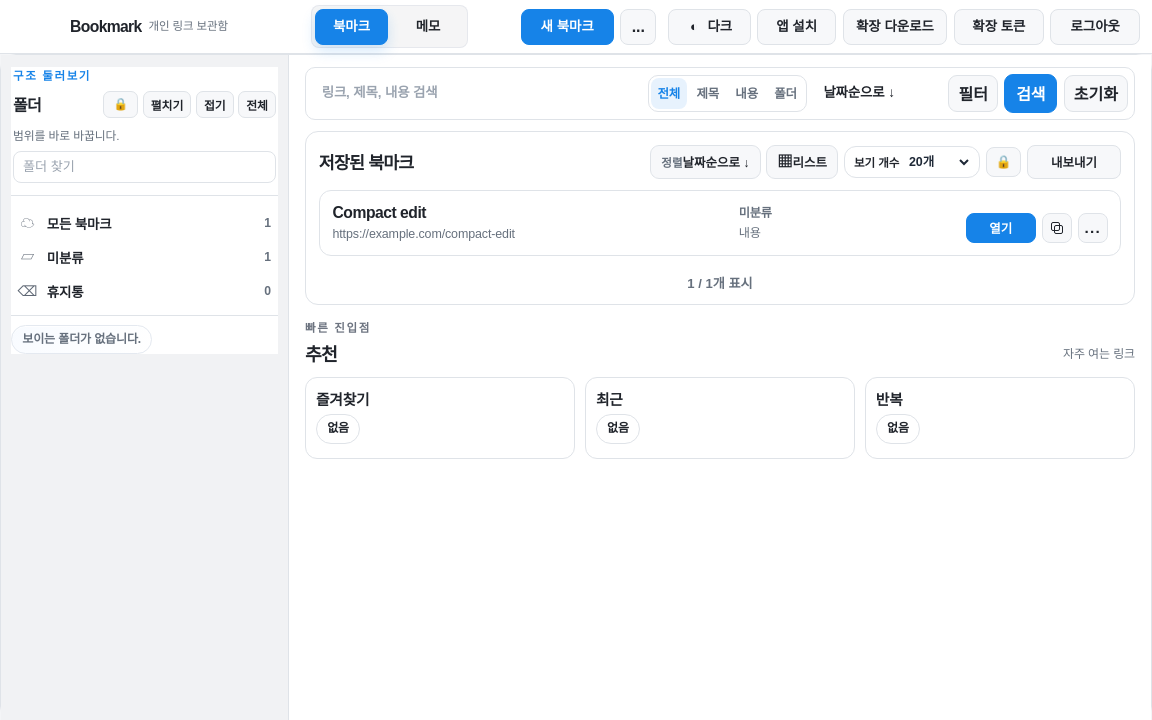
Test: bookmark dashboard › loads full bookmark content before editing a compact list bookmark
The width and height of the screenshot is (1152, 720).
What coordinates should you click on to do the following:
click the button "..." in the row of "Compact edit"
I would click on:
 (1092, 228)
Its box is [1077,213,1108,243].
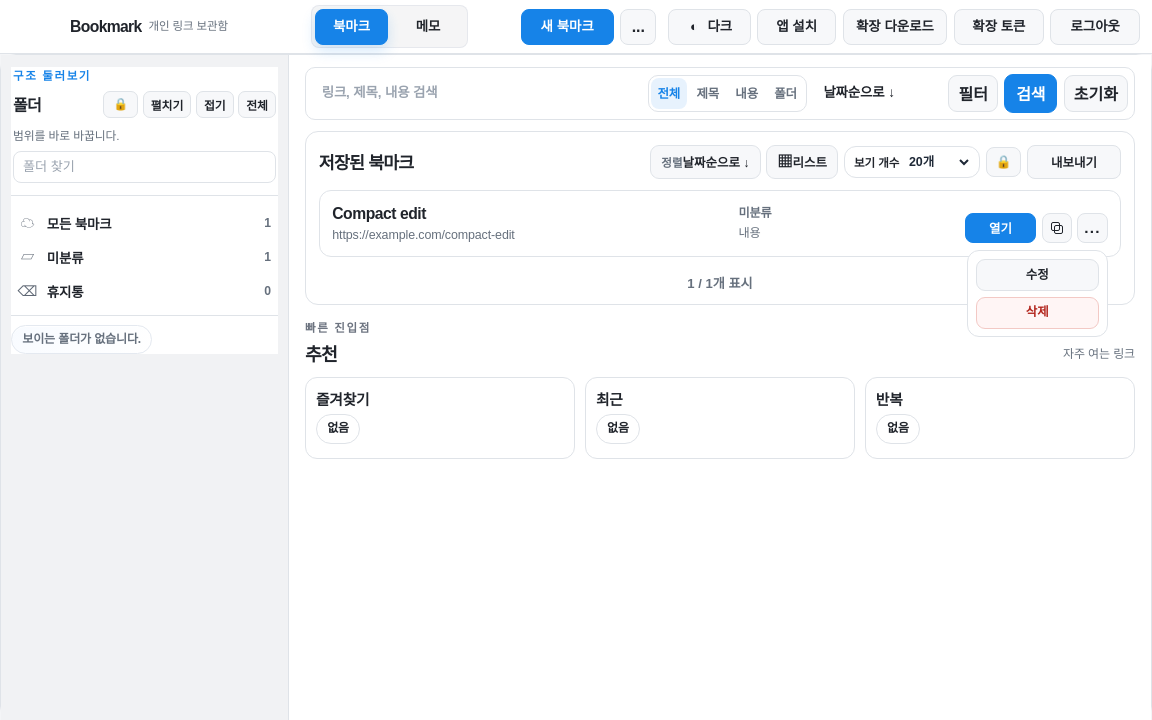
What coordinates should you click on to do the following:
click the button "수정"
I would click on:
 (1037, 275)
Its box is [976,259,1099,291].
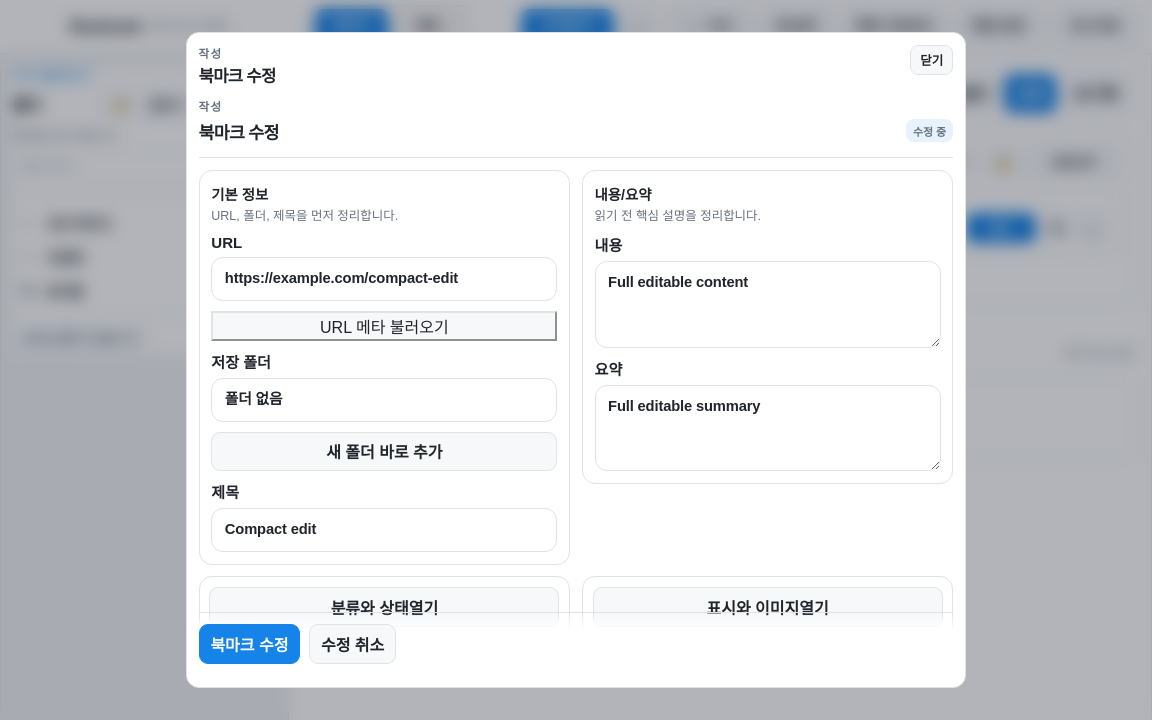
expect the text box labelled "내용" holds "Full editable content": met, box [595,261,941,348]
expect the text box labelled "요약" holds "Full editable summary": met, box [595,385,941,471]
